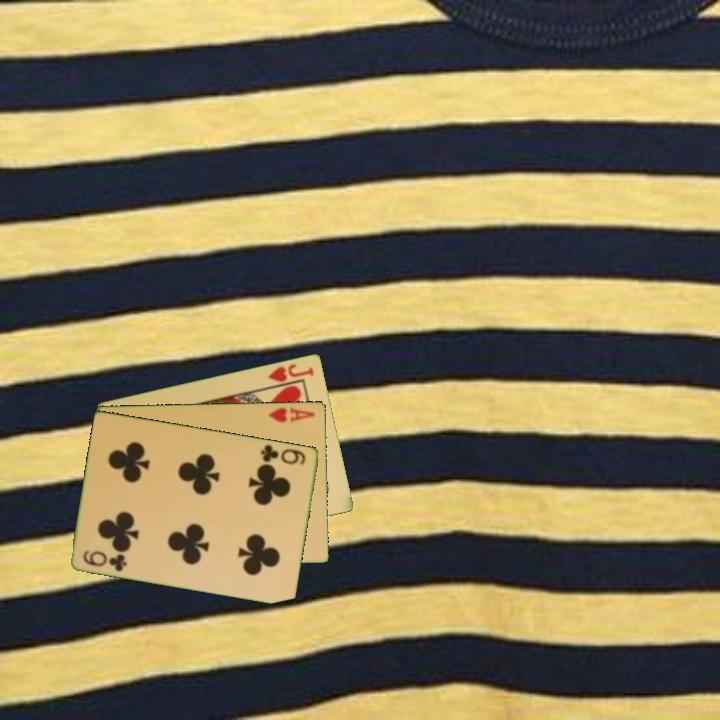6c: (80, 546, 130, 574), (257, 441, 309, 467)
Ah: (265, 403, 318, 425)
Jh: (263, 360, 317, 390)
